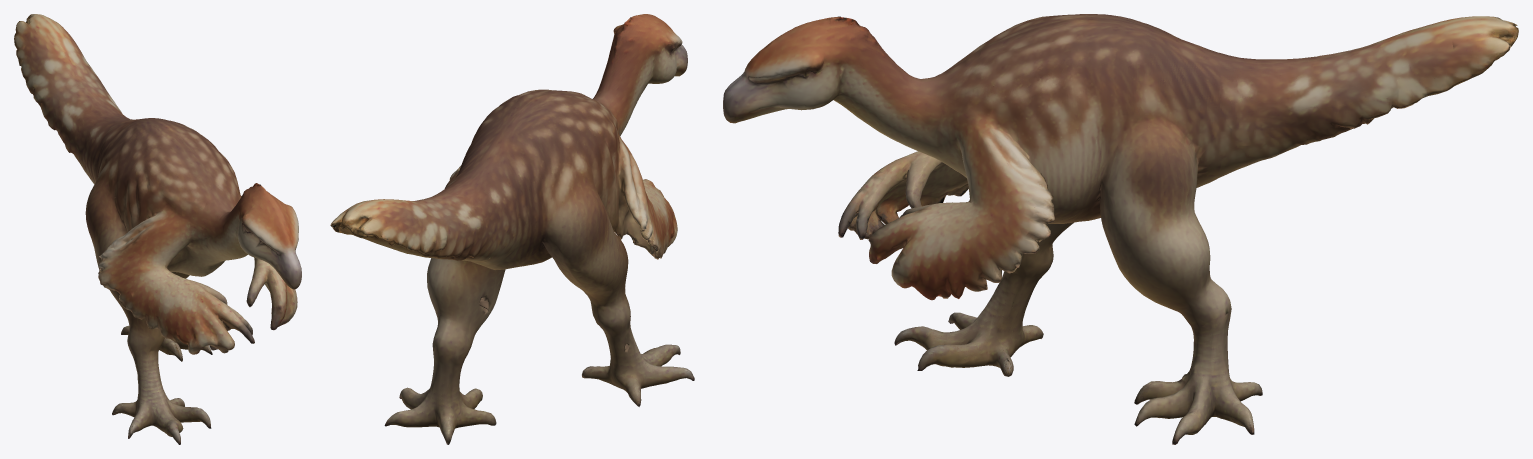
3 views of the same model, side by side, from view 1: azimuth 30°, elevation 25°; view 2: azimuth 150°, elevation 25°; view 3: azimuth 270°, elevation 25° (orthographic). The views are drawn at different scales.
Visible parts, largest first — view 1: geometry_0; view 2: geometry_0; view 3: geometry_0.
Part boxes in pixels (box(x1,y1,x2,y2)): geometry_0: box(14, 14, 301, 444); geometry_0: box(330, 14, 694, 444); geometry_0: box(723, 14, 1518, 444).
Size of the model in its own units: 0.8189 by 1.16 by 2.2.
1 material, 1 textured.
